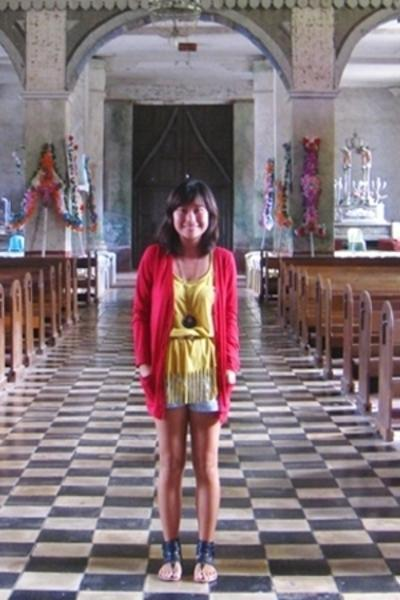jacket: (131, 245, 248, 419)
shirt: (166, 256, 217, 410)
shoe: (156, 531, 220, 570)
